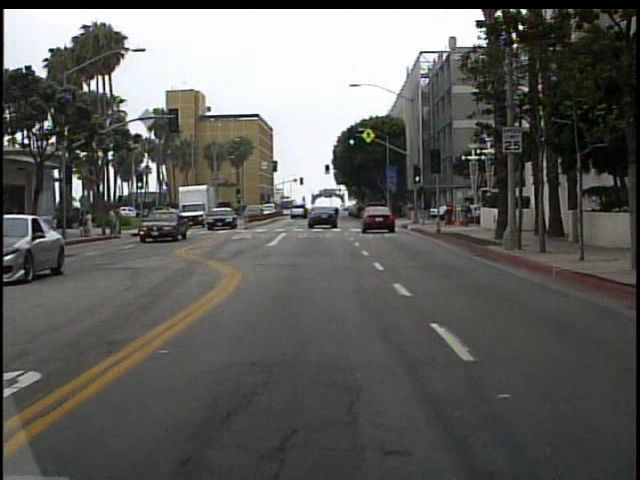person: (109, 204, 121, 238)
